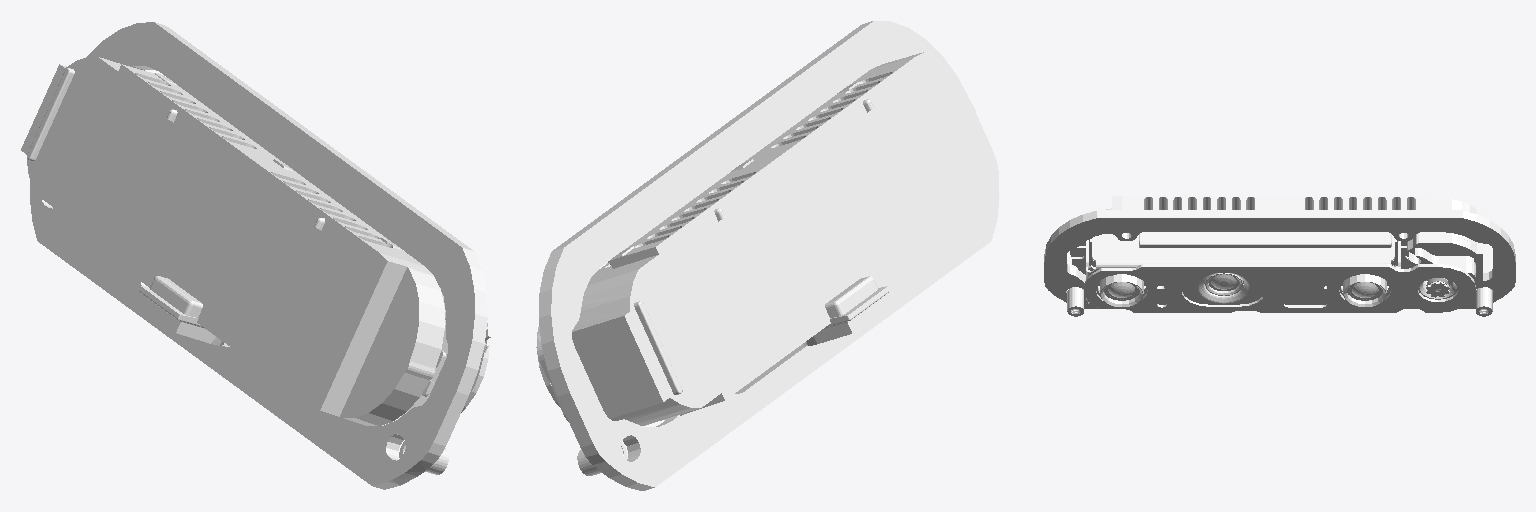
robot.urdf — biped_s42:
<?xml version="1.0" encoding="utf-8"?>
<!-- This URDF was automatically created by SolidWorks to URDF Exporter! Originally created by [author] ([email redacted]) 
     Commit Version: 1.6.0-1-g15f4949  Build Version: 1.6.7594.29634
     For more information, please see http://wiki.ros.org/sw_urdf_exporter -->
<robot
  name="biped_s42">
  <link
    name="torso">
    <inertial>
      <origin
        xyz="-0.00781858405003361 0.00178984260802445 0.226284657258872"
        rpy="0 0 0" />
      <mass
        value="4.9025752535932" />
      <inertia
        ixx="0.0173360306540761"
        ixy="-4.76612424342081E-07"
        ixz="5.38764914949393E-05"
        iyy="0.0163789779493022"
        iyz="-1.05330332602688E-05"
        izz="0.0165850479903382" />
    </inertial>
    <visual>
      <origin
        xyz="0 0 0"
        rpy="0 0 0" />
      <geometry>
        <mesh
          filename="package://biped_s42/meshes/HEAD_URDF.STL" />
      </geometry>
      <material
        name="">
        <color
          rgba="1 1 1 1" />
      </material>
    </visual>
    <collision>
      <origin
        xyz="0 0 0"
        rpy="0 0 0" />
      <geometry>
        <mesh
          filename="package://biped_s42/meshes/HEAD_URDF.STL" />
      </geometry>
    </collision>
  </link>
  <link
    name="head_yaw">
    <inertial>
      <origin
        xyz="4.61869640212623E-05 0.00863328384329101 -0.00982733540736286"
        rpy="0 0 0" />
      <mass
        value="0.0805594702775029" />
      <inertia
        ixx="3.80152953399884E-05"
        ixy="7.78523720025533E-08"
        ixz="1.07251078244678E-08"
        iyy="4.36939633178515E-05"
        iyz="-7.35584139901697E-06"
        izz="3.80072612838224E-05" />
    </inertial>
    <visual>
      <origin
        xyz="0 0 0"
        rpy="0 0 0" />
      <geometry>
        <mesh
          filename="package://biped_s42/meshes/pitch_motor.STL" />
      </geometry>
      <material
        name="">
        <color
          rgba="1 1 1 1" />
      </material>
    </visual>
    <collision>
      <origin
        xyz="0 0 0"
        rpy="0 0 0" />
      <geometry>
        <mesh
          filename="package://biped_s42/meshes/pitch_motor.STL" />
      </geometry>
    </collision>
  </link>
  <joint
    name="head_yaw"
    type="continuous">
    <origin
      xyz="-0.0185 0 0.6014"
      rpy="0 0 0" />
    <parent
      link="torso" />
    <child
      link="head_yaw" />
    <axis
      xyz="0 0 1" />
    <limit
      lower="-0.43"
      upper="0.43"
      effort="0"
      velocity="0" />
  </joint>
  <link
    name="head_pitch">
    <inertial>
      <origin
        xyz="0.0255261755502385 -0.000657054930016489 0.100037683407211"
        rpy="0 0 0" />
      <mass
        value="0.58198371123201" />
      <inertia
        ixx="0.00188894329569263"
        ixy="1.8317313692313E-06"
        ixz="0.000338793579594552"
        iyy="0.00183211496561936"
        iyz="6.62756224771694E-06"
        izz="0.00179257124056015" />
    </inertial>
    <visual>
      <origin
        xyz="0 0 0"
        rpy="0 0 0" />
      <geometry>
        <mesh
          filename="package://biped_s42/meshes/head.STL" />
      </geometry>
      <material
        name="">
        <color
          rgba="1 1 1 1" />
      </material>
    </visual>
    <collision>
      <origin
        xyz="0 0 0"
        rpy="0 0 0" />
      <geometry>
        <mesh
          filename="package://biped_s42/meshes/head.STL" />
      </geometry>
    </collision>
  </link>

  <joint
    name="head_pitch"
    type="continuous">
    <origin
      xyz="0 0 0"
      rpy="0 0 0" />
    <parent
      link="head_yaw" />
    <child
      link="head_pitch" />
    <axis
      xyz="0 1 0" />
    <limit
      lower="-1.57"
      upper="1.57"
      effort="0"
      velocity="0" />
  </joint>
  <link
    name="head_camera">
    <inertial>
      <origin
        xyz="-0.0178089042546857 -0.0160960721497749 -4.88216635797789E-05"
        rpy="0 0 0" />
      <mass
        value="0.0170256015508824" />
      <inertia
        ixx="1.09182640293126E-05"
        ixy="-1.0535440811359E-07"
        ixz="-1.05871502719371E-08"
        iyy="8.57178950902431E-07"
        iyz="-1.64019134430088E-08"
        izz="1.02869893336697E-05" />
    </inertial>
    <visual>
      <origin
        xyz="0 0 0"
        rpy="0 0 0" />
      <geometry>
        <mesh
          filename="package://biped_s42/meshes/3D-camera.STL" />
      </geometry>
      <material
        name="">
        <color
          rgba="1 1 1 1" />
      </material>
    </visual>
    <collision>
      <origin
        xyz="0 0 0"
        rpy="0 0 0" />
      <geometry>
        <mesh
          filename="package://biped_s42/meshes/3D-camera.STL" />
      </geometry>
    </collision>
  </link>
  <joint
    name="head_camera"
    type="fixed">
    <origin
      xyz="0.10849 0.0175 0.11071"
      rpy="0 0.48869 0" />
    <parent
      link="head_pitch" />
    <child
      link="head_camera" />
    <axis
      xyz="0 0 0" />
  </joint>
</robot>

--- Render facts (derived) ---
The picture shows the robot from 3 angles, left to right: view 1: azimuth 30°, elevation 25°; view 2: azimuth 150°, elevation 25°; view 3: azimuth 270°, elevation 25°; orthographic projection.
Model biped_s42 with 4 links and 3 joints (2 continuous, 1 fixed), rooted at torso, posed all joints at 0.
Links seen in each view (by area): view 1: head_camera; view 2: head_camera; view 3: head_camera.
Boxes of the visible links, box(x1,y1,x2,y2) form: head_camera: box(21, 22, 490, 489); head_camera: box(536, 20, 999, 490); head_camera: box(1044, 195, 1515, 316).
Bounding box of the posed robot: 0.0257 × 0.0968 × 0.0283 m (x, y, z).
1 mesh visuals loaded from 4 distinct referenced files (1 binary STL); not drawn: 3 (reference not matched to a file when rendering).